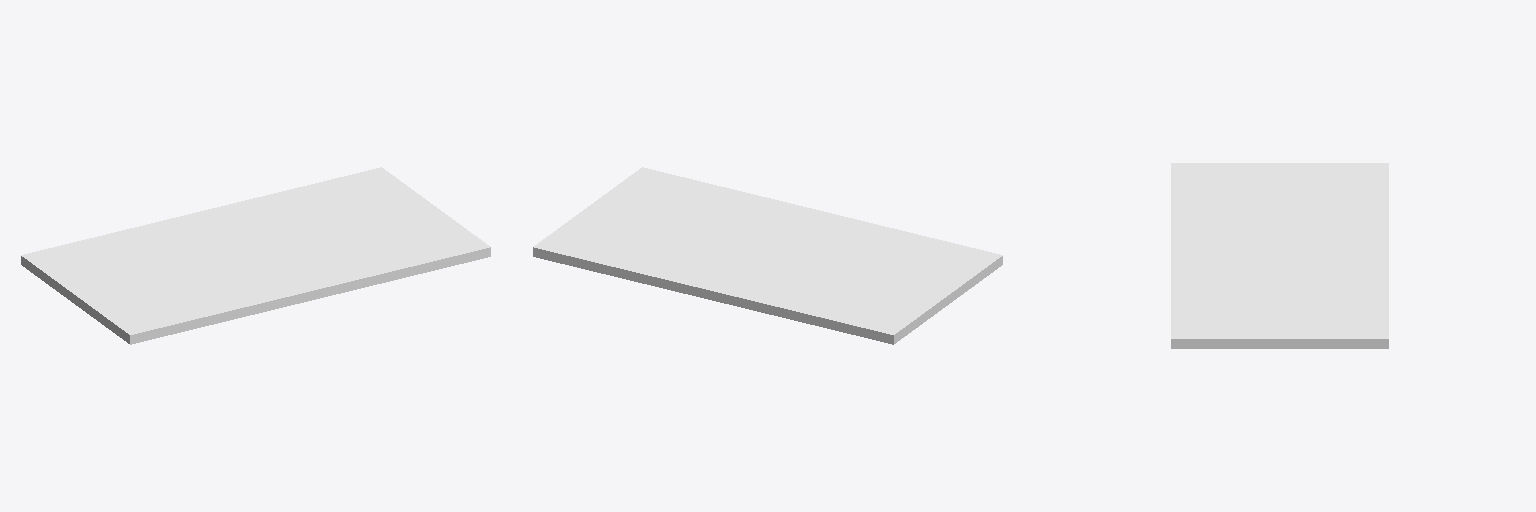
File: 3lan.obj
3 views of the same model, side by side, from view 1: azimuth 30°, elevation 25°; view 2: azimuth 150°, elevation 25°; view 3: azimuth 270°, elevation 25° (orthographic).
Visible parts, largest first — view 1: object 1; view 2: object 1; view 3: object 1.
Part boxes in pixels (x1,y1,x2,y2): object 1: (21,167,490,344); object 1: (533,167,1002,344); object 1: (1171,163,1388,348).
Size of the model in its own units: 4 by 0.1 by 2.1.